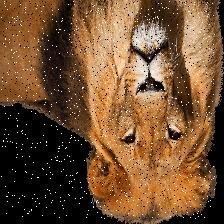Lion: (1, 0, 215, 219)
